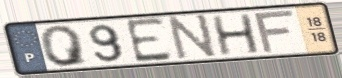9: (87, 22, 127, 64)
E: (123, 15, 175, 65)
F: (252, 8, 298, 56)
H: (209, 12, 263, 57)
N: (168, 13, 219, 62)
Q: (38, 24, 91, 68)
